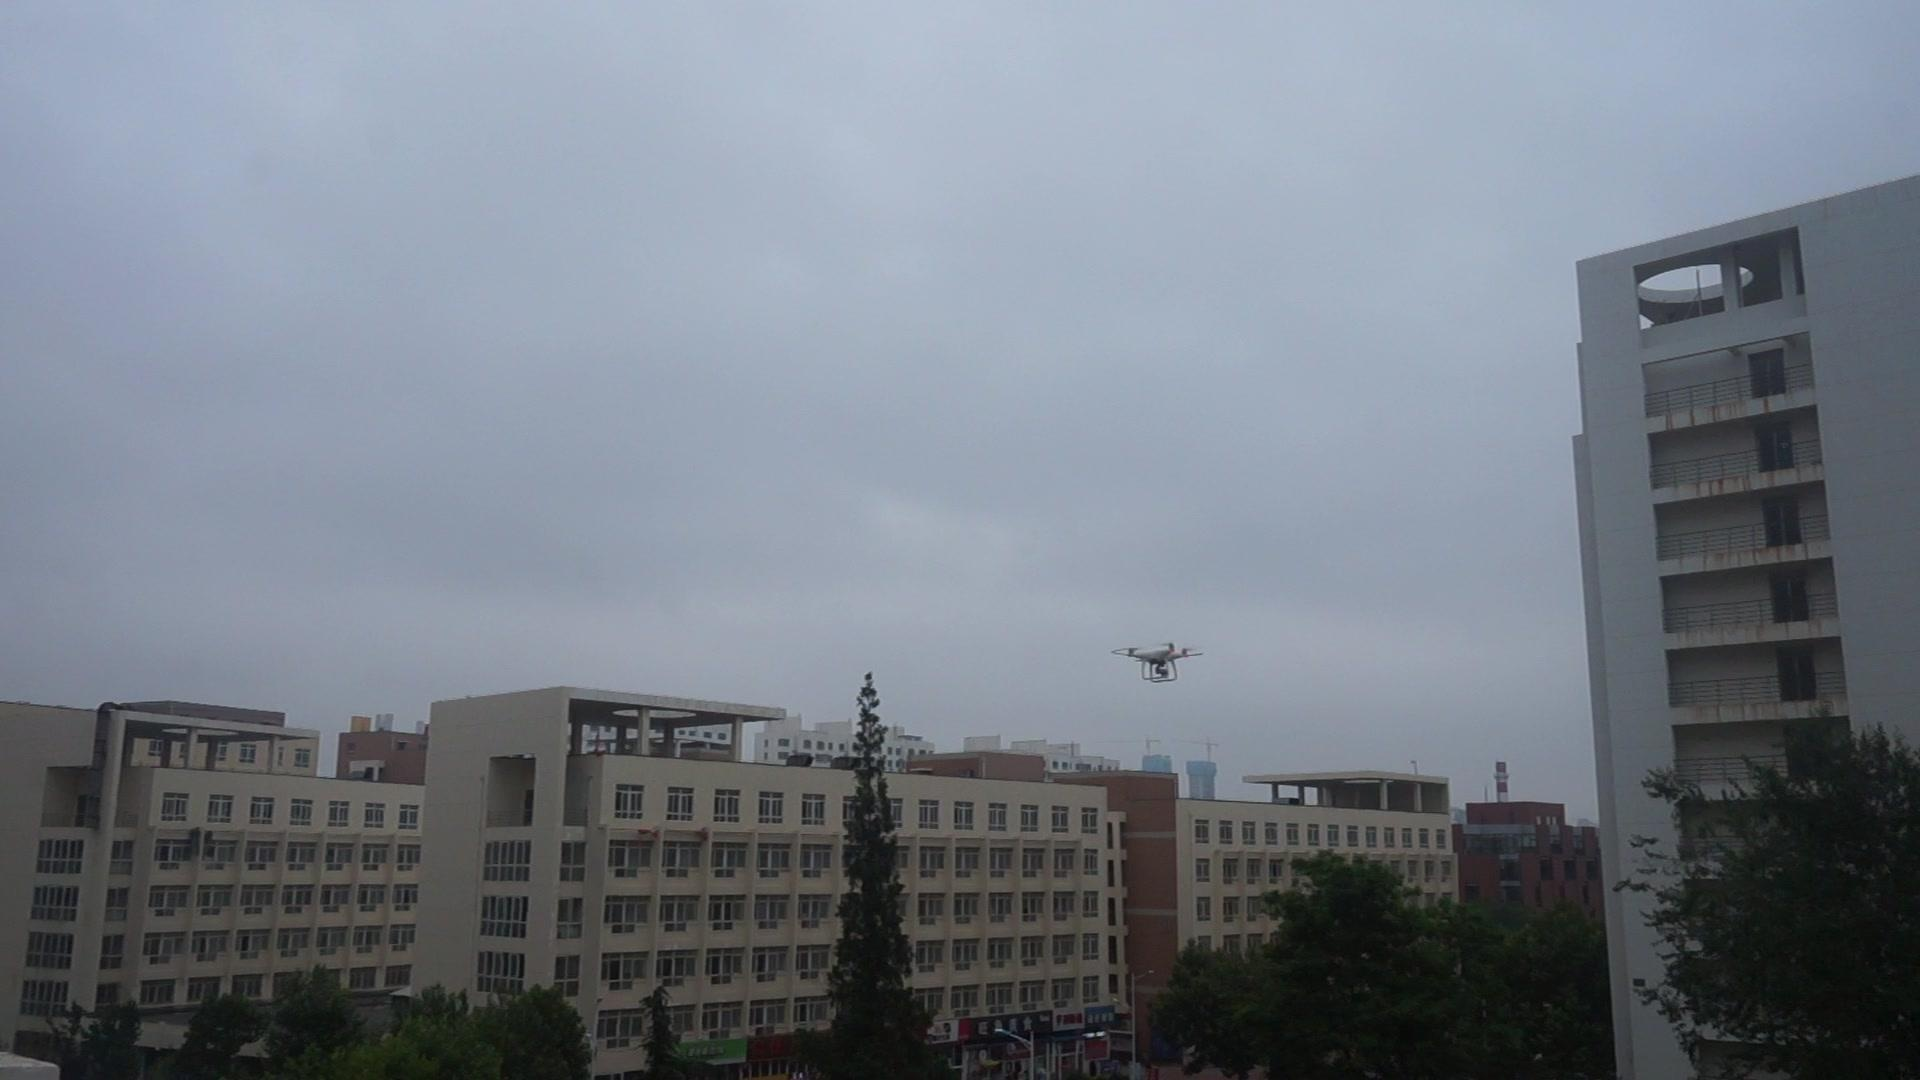UAV: (1112, 644, 1205, 684)
